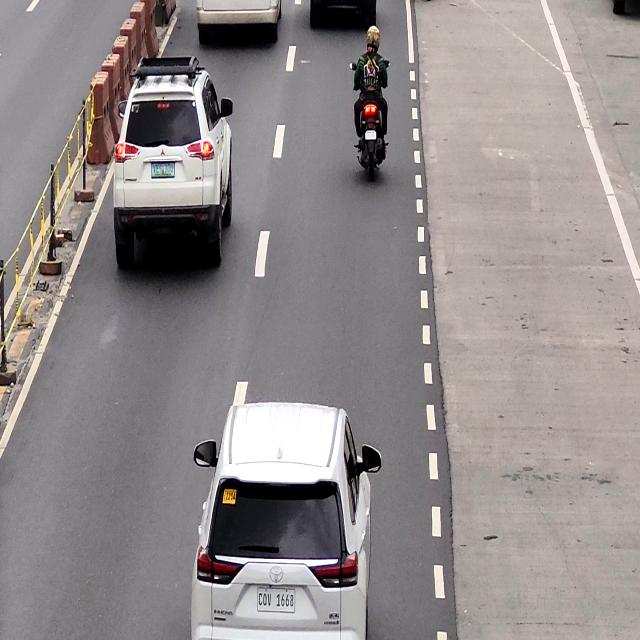Car: (198, 406, 372, 640), (116, 60, 232, 263)
License-Plate: (255, 582, 296, 618), (150, 160, 176, 179)
Motorcycle: (355, 24, 390, 177)
